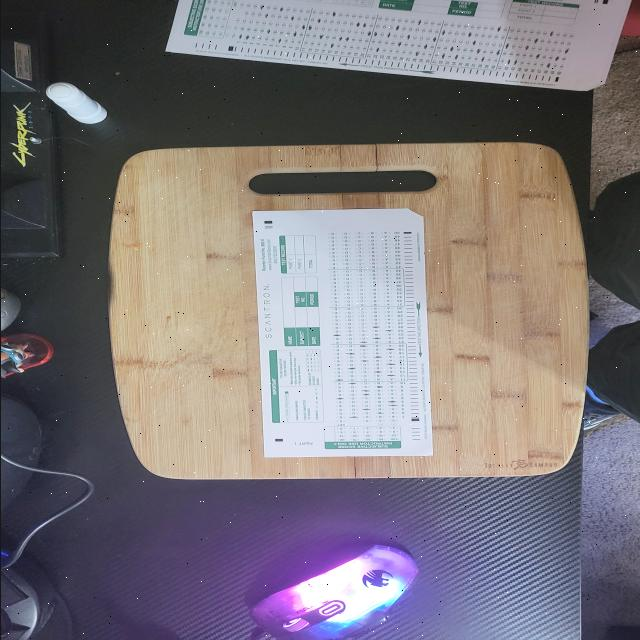scantron: (251, 208, 433, 458)
